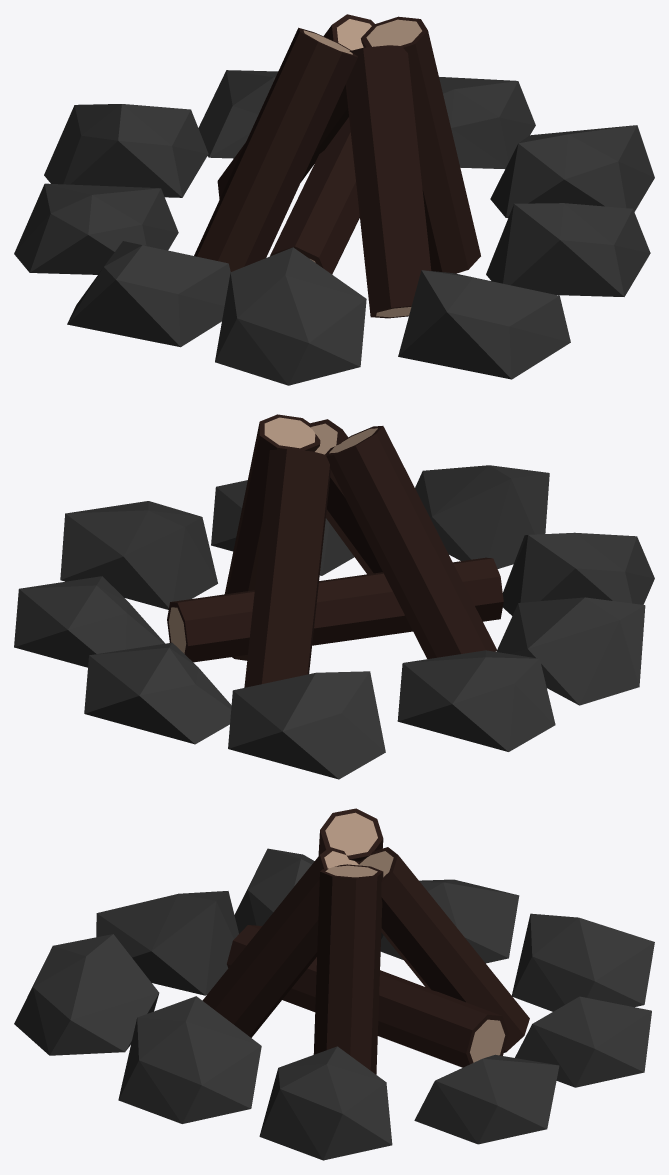
The model's file is CampFire.fbx.
3 renders of one model, top to bottom at view 1: azimuth 30°, elevation 25°; view 2: azimuth 150°, elevation 25°; view 3: azimuth 270°, elevation 25°, orthographic. The views are drawn at different scales.
Parts seen in each view (by area): view 1: Log.002, Log.004, Rock.007, Rock, Rock.001, Rock.008, Rock.005, Rock.006, Rock.002, Log.003, Log, Rock.003 (+2 smaller); view 2: Log.004, Log.001, Rock.005, Rock.002, Log, Rock.006, Rock.008, Rock.004, Rock, Rock.007, Rock.003, Log.003 (+2 smaller); view 3: Rock.001, Rock, Log.003, Rock.002, Log.001, Rock.005, Rock.007, Log.002, Log, Rock.003, Rock.004, Rock.006 (+2 smaller).
Part boxes in pixels (<box>): Log.002: <box>345,45,431,318</box>; Log.004: <box>194,27,357,271</box>; Rock.007: <box>215,247,366,385</box>; Rock: <box>398,270,570,379</box>; Rock.001: <box>486,203,650,296</box>; Rock.008: <box>67,241,230,347</box>; Rock.005: <box>44,104,208,197</box>; Rock.006: <box>14,183,178,274</box>; Rock.002: <box>490,125,654,217</box>; Log.003: <box>361,16,480,273</box>; Log: <box>270,117,359,274</box>; Rock.003: <box>439,77,535,168</box>; Log.004: <box>325,426,496,658</box>; Log.001: <box>244,449,330,687</box>; Rock.005: <box>228,671,385,779</box>; Rock.002: <box>60,501,217,609</box>; Log: <box>167,557,503,662</box>; Rock.006: <box>397,650,555,751</box>; Rock.008: <box>496,597,645,705</box>; Rock.004: <box>84,642,231,744</box>; Rock: <box>415,465,549,568</box>; Rock.007: <box>502,532,654,615</box>; Rock.003: <box>14,576,164,667</box>; Log.003: <box>225,414,320,660</box>; Rock.001: <box>118,996,261,1123</box>; Rock: <box>14,934,159,1055</box>; Log.003: <box>313,864,383,1074</box>; Rock.002: <box>259,1046,392,1160</box>; Log.001: <box>359,847,529,1052</box>; Rock.005: <box>511,913,654,1011</box>; Rock.007: <box>96,891,238,995</box>; Log.002: <box>202,847,358,1037</box>; Log: <box>227,925,508,1067</box>; Rock.003: <box>414,1054,559,1144</box>; Rock.004: <box>515,996,651,1087</box>; Rock.006: <box>380,879,519,963</box>.
Bounding box in the file's own units: 483 × 206 × 489.
